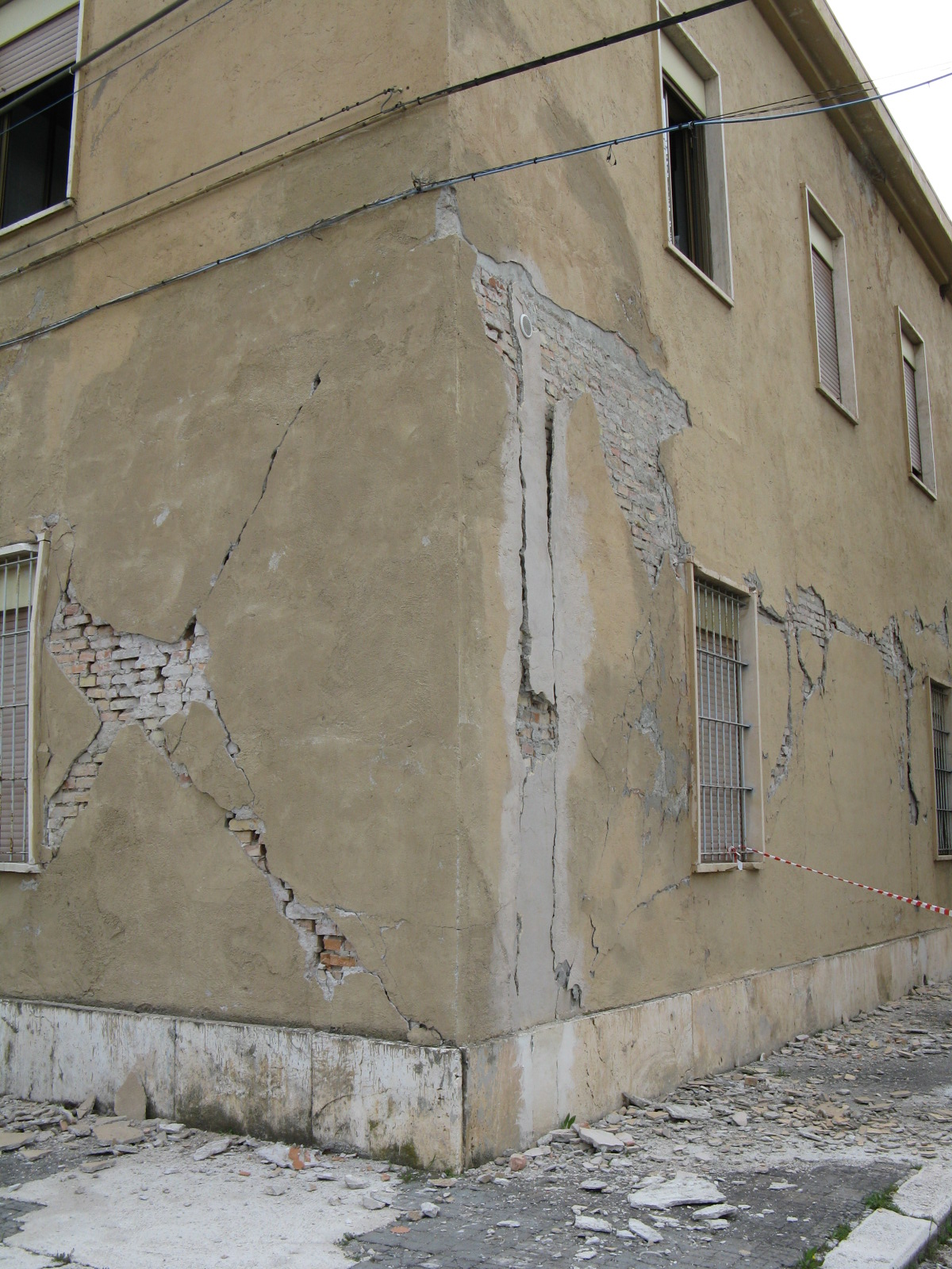Crack: (44, 229, 453, 1045), (475, 317, 571, 1014), (763, 580, 926, 829), (62, 202, 160, 300), (629, 868, 710, 933), (11, 495, 79, 554)
Debris: (1, 980, 951, 1266), (265, 1142, 315, 1177)
Spalling: (469, 257, 685, 782), (49, 598, 213, 861), (781, 585, 921, 695), (285, 897, 360, 986), (770, 728, 798, 788)
